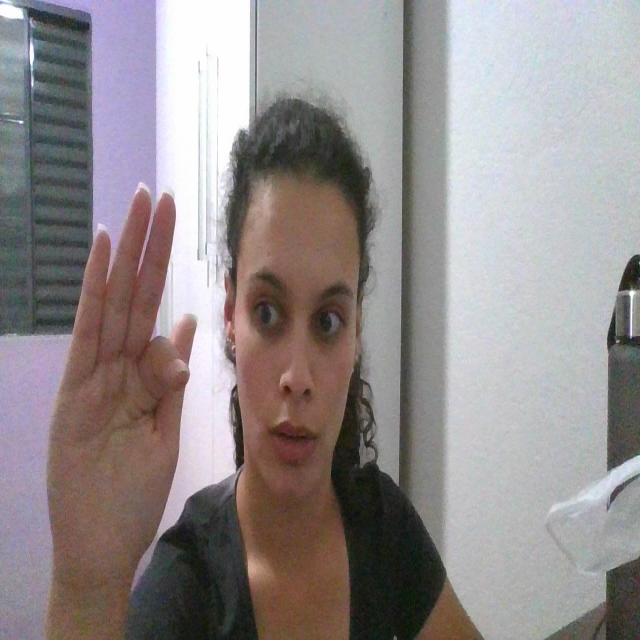F: (46, 178, 202, 578)
